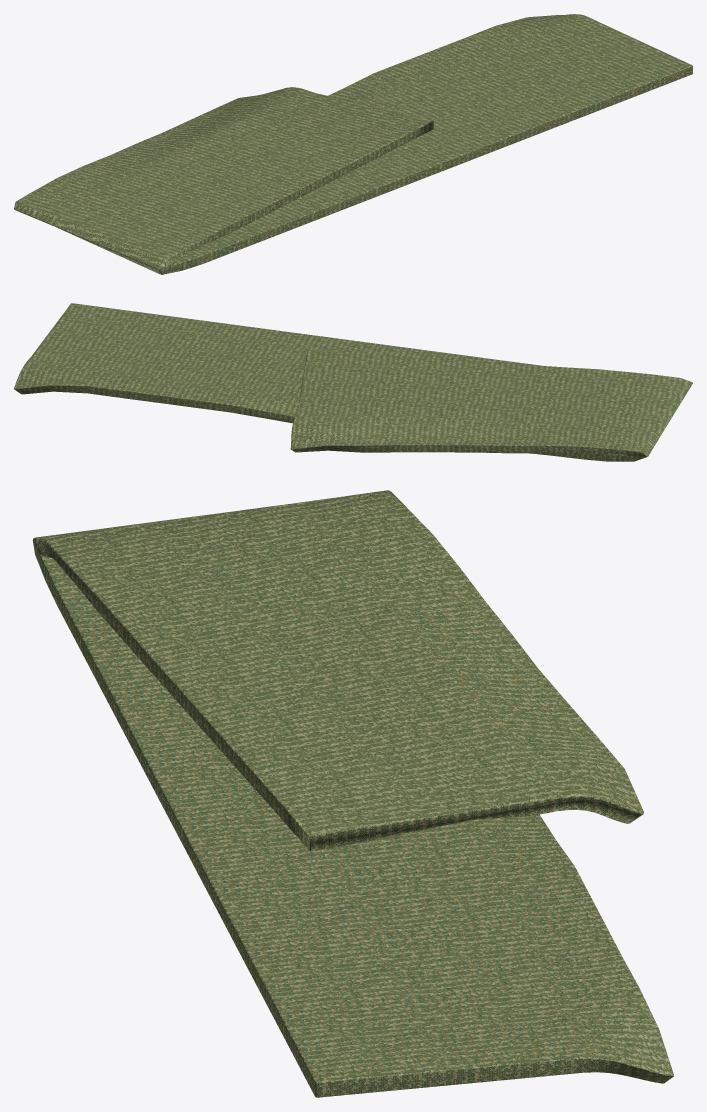
The model's file is Eden_showertowel.fbx.
The picture shows the model from 3 angles, top to bottom: view 1: azimuth 30°, elevation 25°; view 2: azimuth 150°, elevation 25°; view 3: azimuth 270°, elevation 25°; orthographic projection. The views are drawn at different scales.
Visible parts, largest first — view 1: showertowel; view 2: showertowel; view 3: showertowel.
Part boxes in pixels (box(x1,y1,x2,y2)): showertowel: box(14, 14, 692, 274); showertowel: box(14, 303, 692, 461); showertowel: box(33, 490, 673, 1097).
Size of the model in its own units: 0.00584 by 0.000272 by 0.00274.
Materials: 1 (1 with a texture image).
